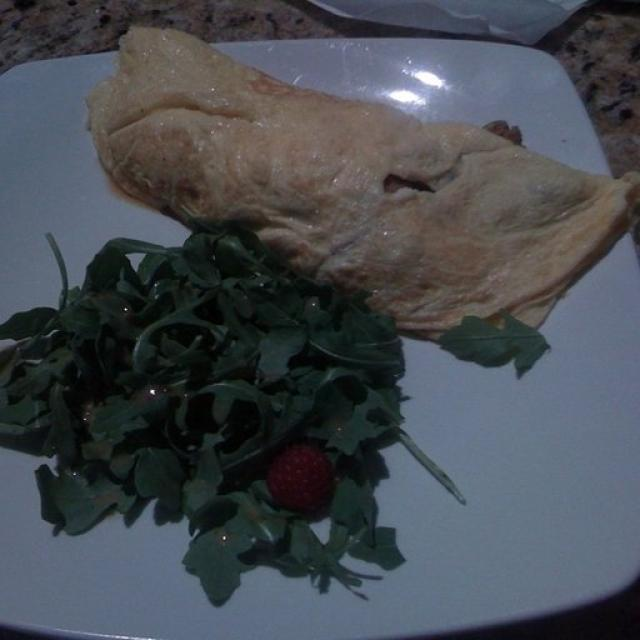telur_ayam_dadar: (85, 22, 640, 344)
